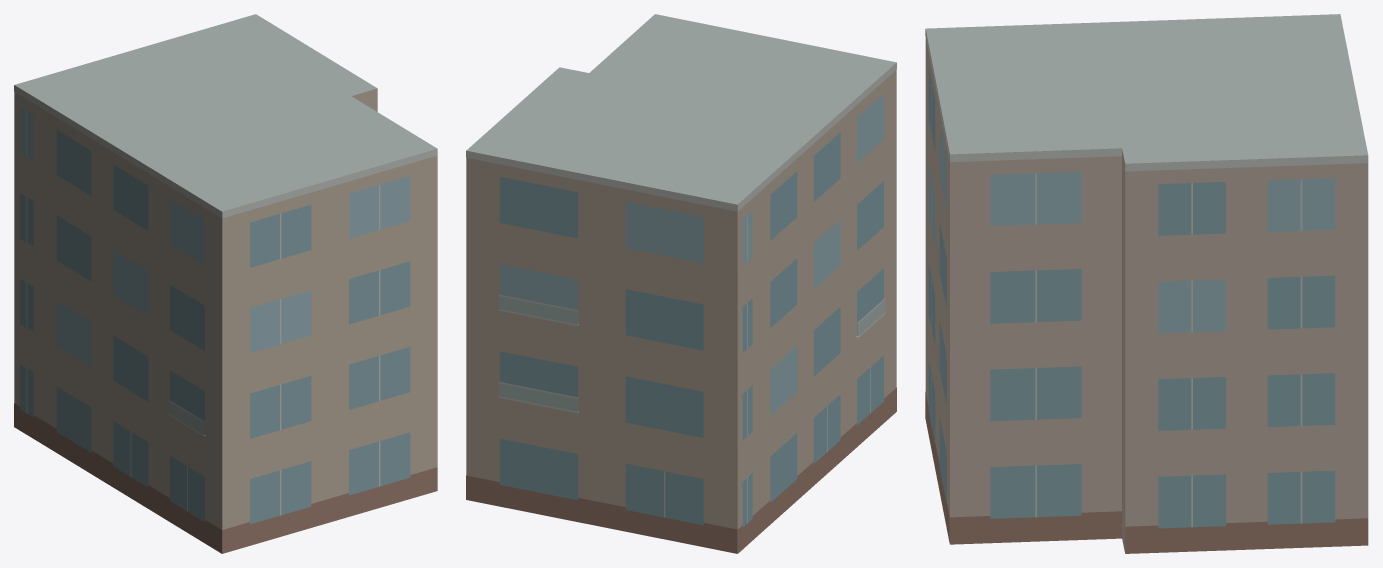
Rendered from residential-bcf4d31a-5f72-4cd4-914d-026c3a5058fb.glb.
3 renders of one model, left to right at view 1: azimuth 30°, elevation 25°; view 2: azimuth 150°, elevation 25°; view 3: azimuth 270°, elevation 25°, orthographic. The views are drawn at different scales.
Parts seen in each view (by area): view 1: residential-bcf4d31a-5f72-4cd4-914d-026c3a5058fb.tmp; view 2: residential-bcf4d31a-5f72-4cd4-914d-026c3a5058fb.tmp; view 3: residential-bcf4d31a-5f72-4cd4-914d-026c3a5058fb.tmp.
Boxes of the visible parts, x1,y1,x2,y2 form: residential-bcf4d31a-5f72-4cd4-914d-026c3a5058fb.tmp: [14, 14, 437, 553]; residential-bcf4d31a-5f72-4cd4-914d-026c3a5058fb.tmp: [466, 14, 896, 553]; residential-bcf4d31a-5f72-4cd4-914d-026c3a5058fb.tmp: [925, 14, 1368, 553].
Size of the model in its own units: 10.05 by 12.2 by 12.56.
